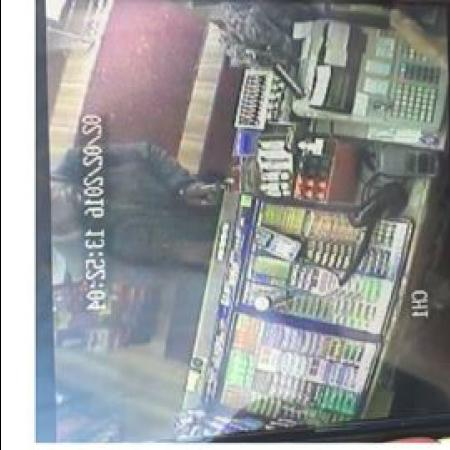Pistol: (170, 165, 222, 212)
